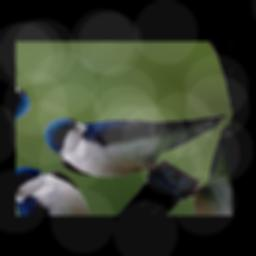Swallow: (28, 50, 229, 213)
